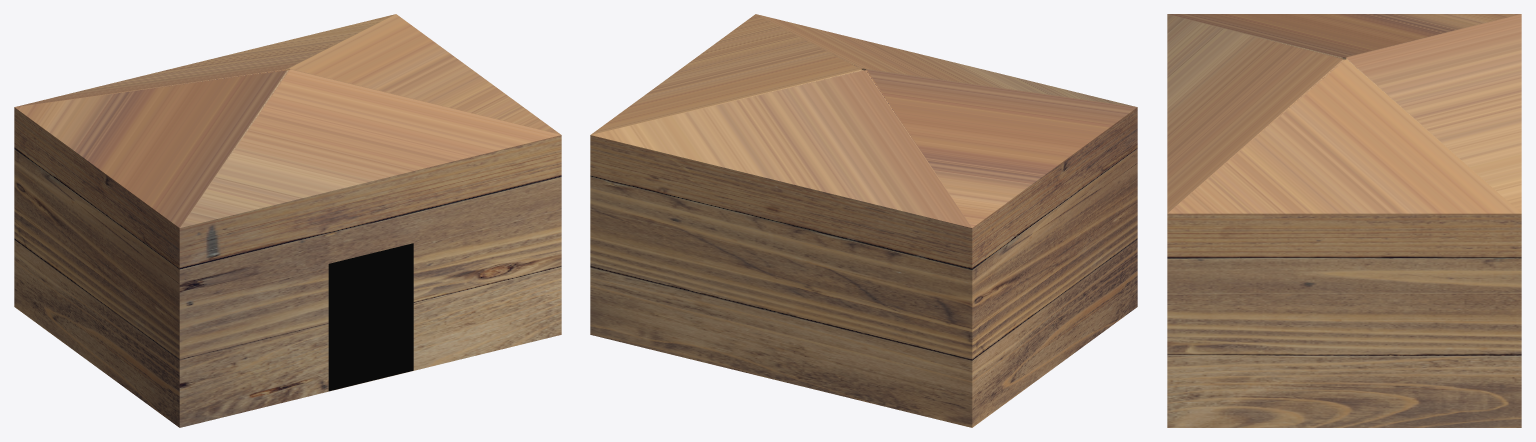
File: wood_house.fbx
3 views of the same model, side by side, from view 1: azimuth 30°, elevation 25°; view 2: azimuth 150°, elevation 25°; view 3: azimuth 270°, elevation 25° (orthographic). The views are drawn at different scales.
Parts seen in each view (by area): view 1: Cube.001, Plane; view 2: Cube.001; view 3: Cube.001.
Part boxes in pixels (x1,y1,x2,y2): Cube.001: (14, 14, 561, 427); Plane: (328, 243, 413, 391); Cube.001: (590, 14, 1137, 427); Cube.001: (1167, 14, 1521, 427).
Size of the model in its own units: 3.01 by 2.52 by 4.
